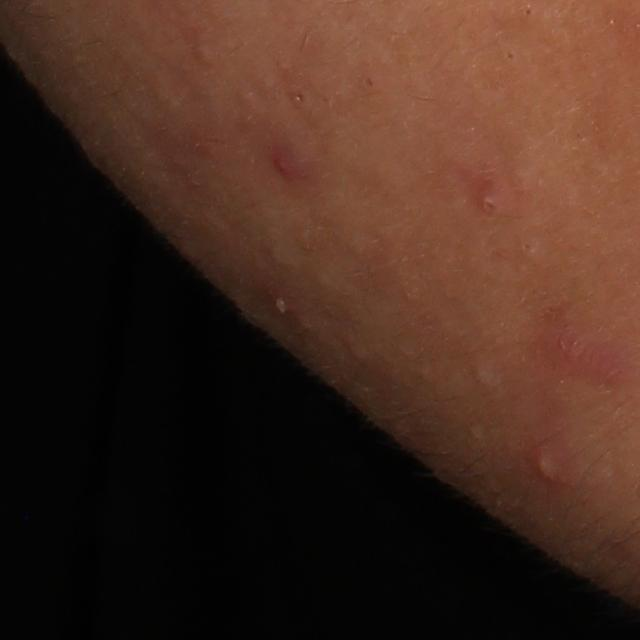comedo: (469, 362, 496, 391), (519, 4, 537, 19), (501, 49, 518, 64)
papule: (548, 326, 598, 372), (462, 173, 507, 219), (274, 155, 297, 182)
pustule: (525, 438, 571, 486)
